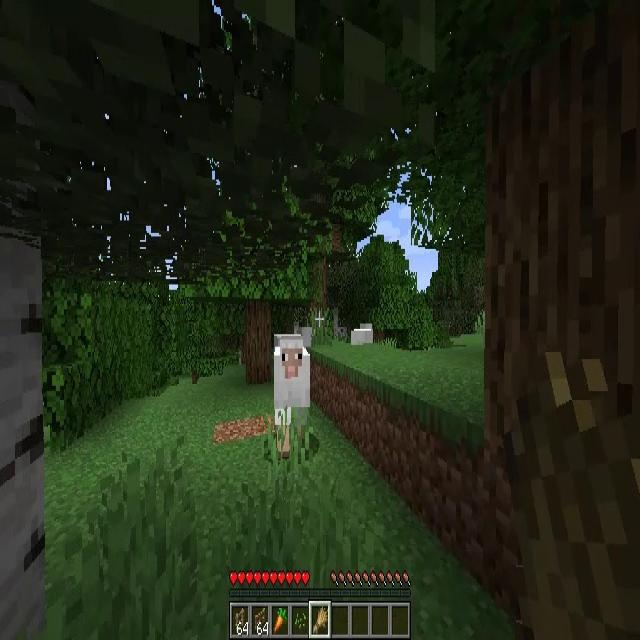sheep: (274, 340, 310, 448), (351, 322, 374, 346)
